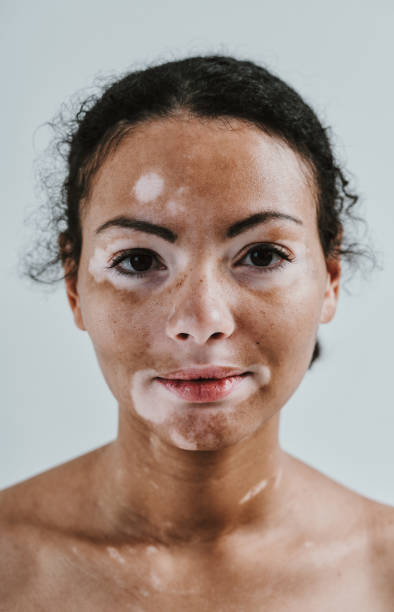Vitiligo: (91, 169, 311, 456)
